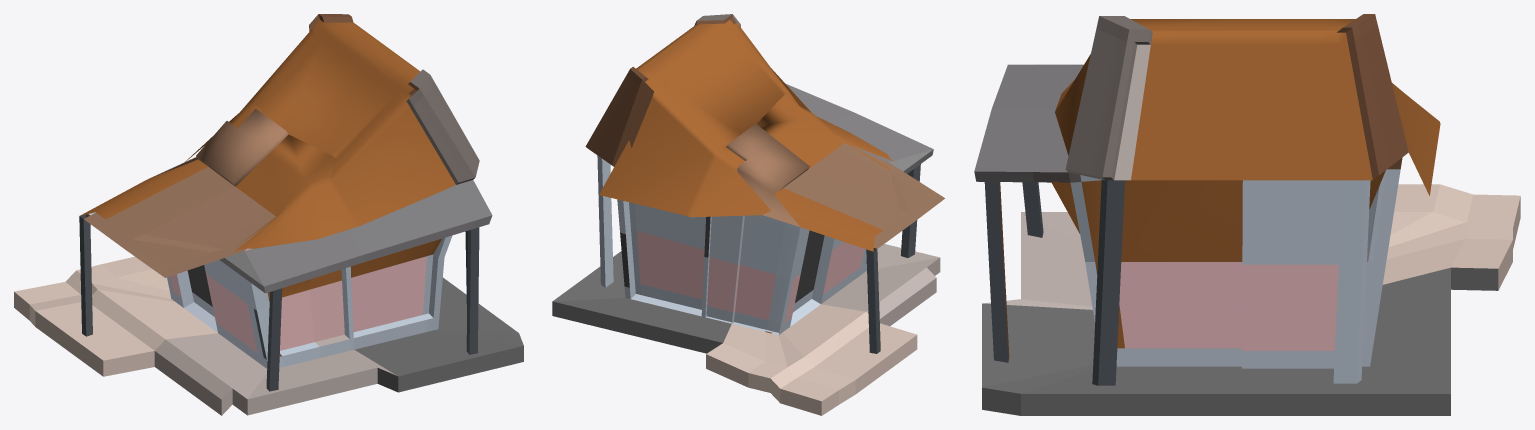
The model's file is house2Sophie.fbx.
3 renders of one model, left to right at view 1: azimuth 30°, elevation 25°; view 2: azimuth 150°, elevation 25°; view 3: azimuth 270°, elevation 25°, orthographic. The views are drawn at different scales.
Parts seen in each view (by area): view 1: Cube.006; view 2: Cube.006; view 3: Cube.006.
Part boxes in pixels (left/top/right/bottom): Cube.006: left=14, top=14, right=523, bottom=415; Cube.006: left=552, top=14, right=945, bottom=415; Cube.006: left=974, top=14, right=1520, bottom=415.
Size of the model in its own units: 230 by 181 by 240.
